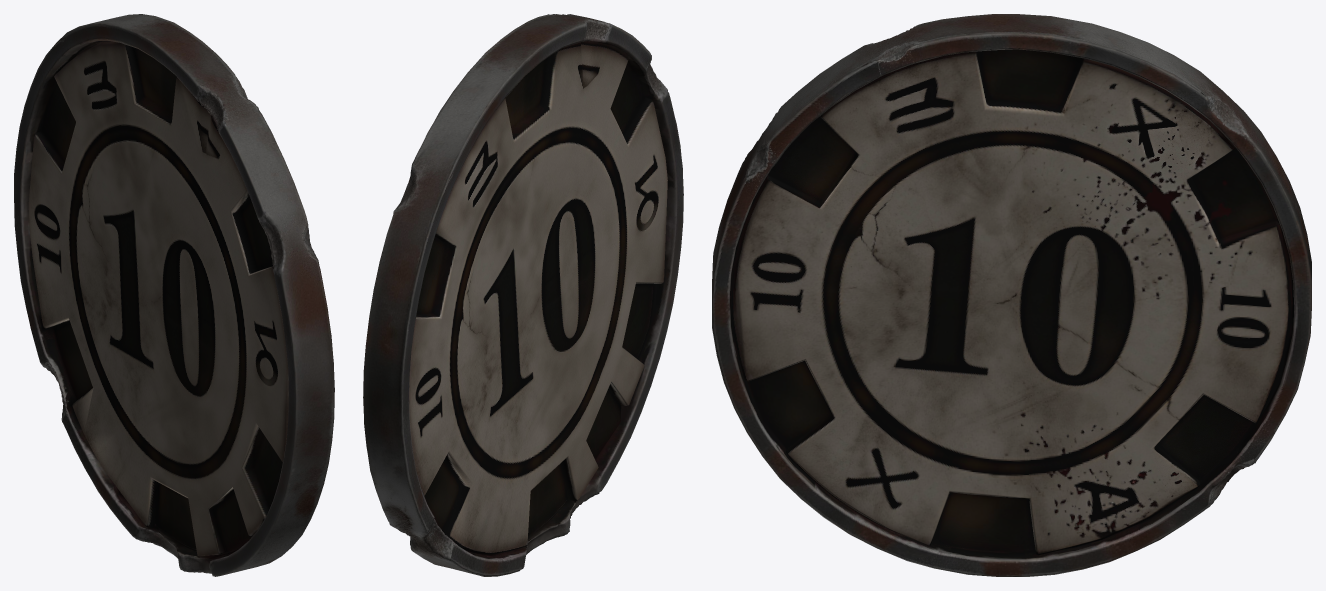
3 renders of one model, left to right at view 1: azimuth 30°, elevation 25°; view 2: azimuth 150°, elevation 25°; view 3: azimuth 270°, elevation 25°, orthographic. The views are drawn at different scales.
Parts seen in each view (by area): view 1: tripo_node_cbba3e55; view 2: tripo_node_cbba3e55; view 3: tripo_node_cbba3e55.
Boxes of the visible parts, left/top/right/bottom form: tripo_node_cbba3e55: left=14, top=14, right=334, bottom=576; tripo_node_cbba3e55: left=363, top=14, right=683, bottom=576; tripo_node_cbba3e55: left=712, top=14, right=1311, bottom=576.
Size of the model in its own units: 0.082 by 0.998 by 0.998.
1 material, 1 textured.
